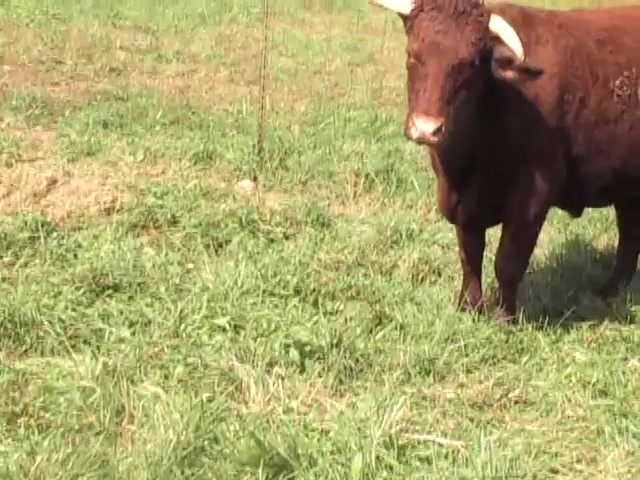cow: (369, 1, 640, 322)
